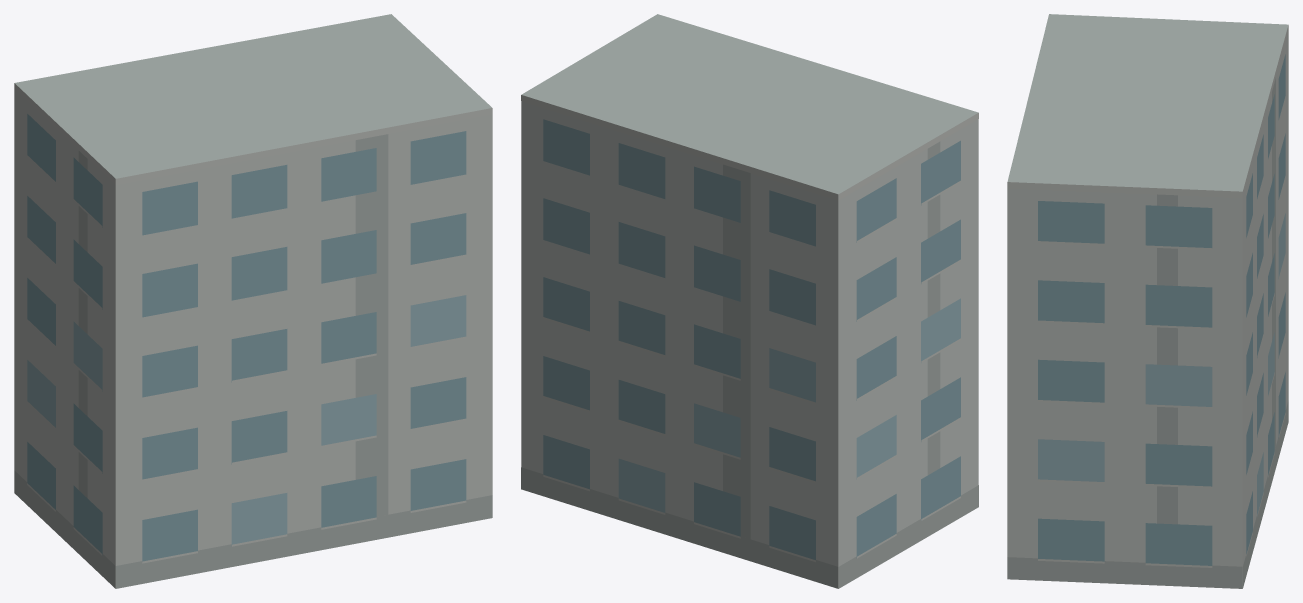
Rendered from survey-upis-32767785.glb.
3 renders of one model, left to right at view 1: azimuth 30°, elevation 25°; view 2: azimuth 150°, elevation 25°; view 3: azimuth 270°, elevation 25°, orthographic. The views are drawn at different scales.
Visible parts, largest first — view 1: survey-upis-32767785.tmp; view 2: survey-upis-32767785.tmp; view 3: survey-upis-32767785.tmp.
Part boxes in pixels (x1,y1,x2,y2): survey-upis-32767785.tmp: (14, 14, 492, 588); survey-upis-32767785.tmp: (521, 14, 978, 588); survey-upis-32767785.tmp: (1007, 14, 1288, 588).
Size of the model in its own units: 14.63 by 15.25 by 9.79.
